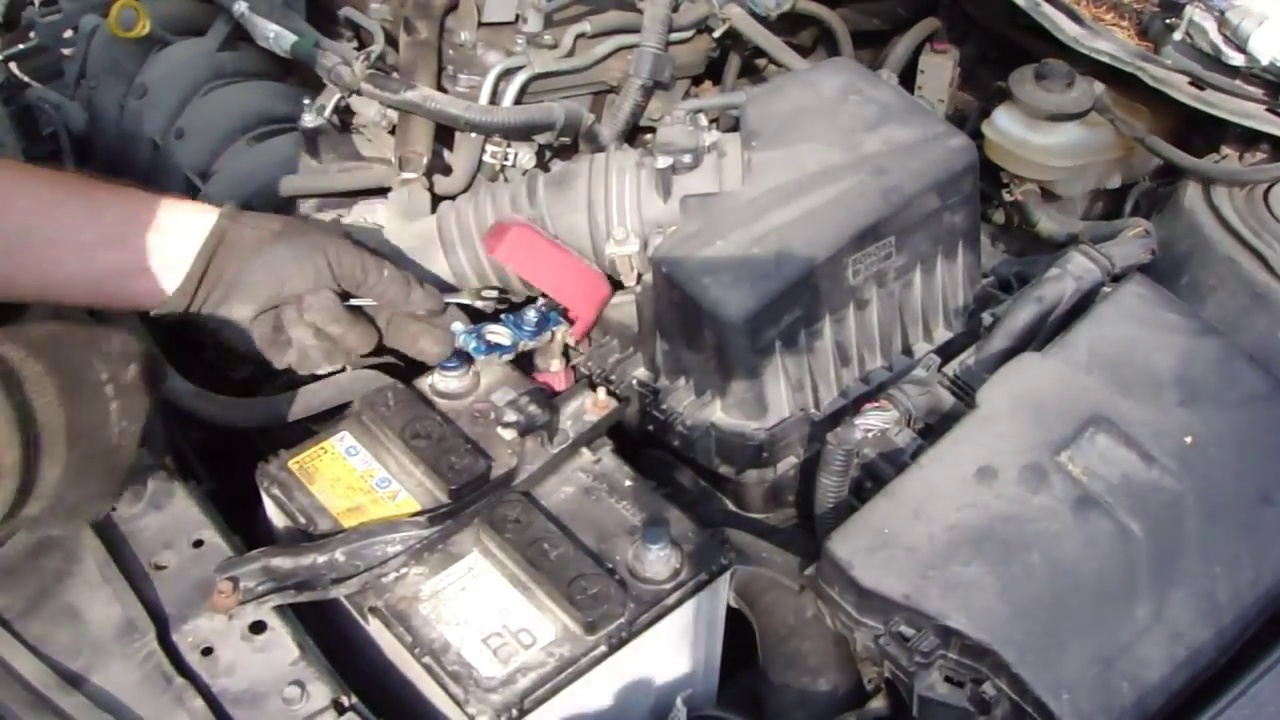battery: (254, 336, 726, 694)
neg_disconnected: (595, 497, 716, 605)
pos_touched: (189, 200, 606, 424)
